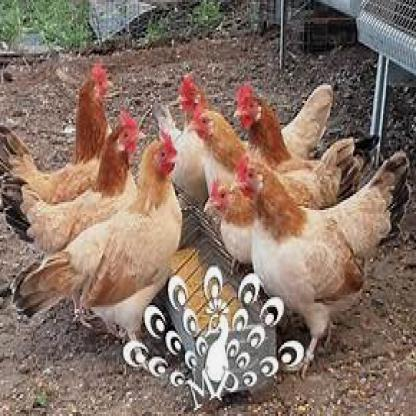chicken: (230, 154, 414, 378), (13, 131, 181, 333), (0, 115, 148, 265), (204, 136, 380, 258), (0, 65, 116, 204), (232, 83, 294, 161), (186, 103, 246, 176), (176, 71, 204, 115)
